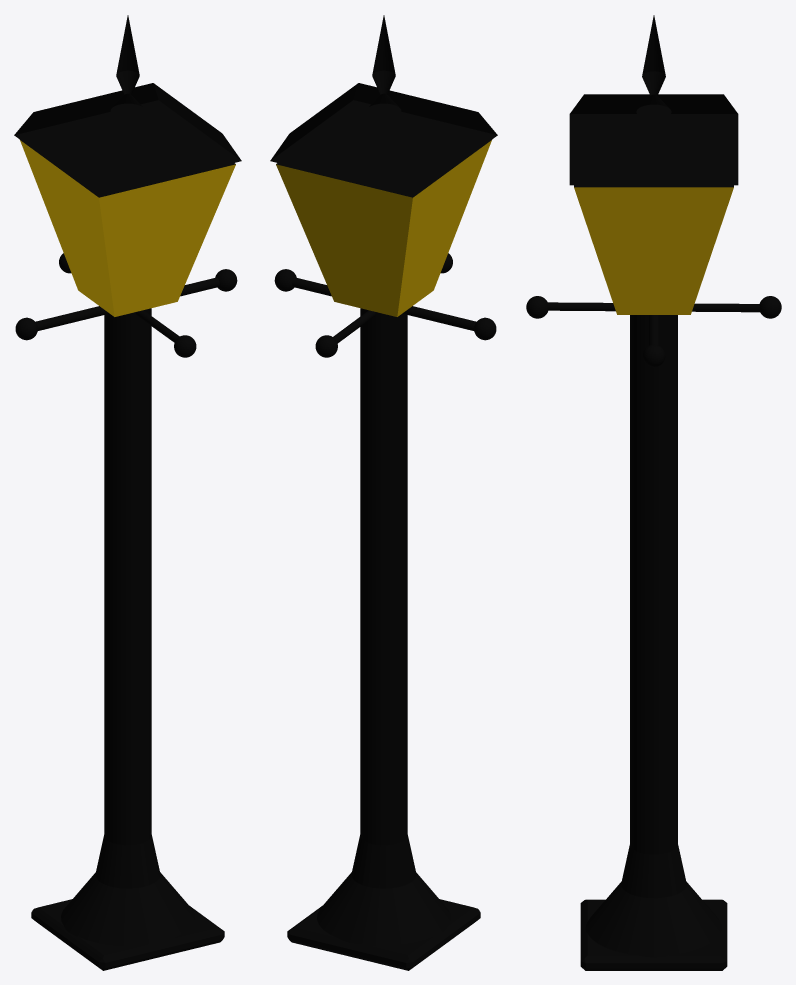
File: lamp.dae
3 renders of one model, left to right at view 1: azimuth 30°, elevation 25°; view 2: azimuth 150°, elevation 25°; view 3: azimuth 270°, elevation 25°, orthographic.
Parts seen in each view (by area): view 1: Cube, Cube.003; view 2: Cube, Cube.003; view 3: Cube, Cube.003.
Part boxes in pixels (x1=…): Cube: x1=15, y1=140, x2=237, y2=970; Cube.003: x1=14, y1=15, x2=241, y2=196; Cube: x1=274, y1=140, x2=496, y2=970; Cube.003: x1=270, y1=15, x2=497, y2=196; Cube: x1=526, y1=185, x2=781, y2=970; Cube.003: x1=569, y1=15, x2=738, y2=185.
Size of what is drawn, in the model's own units: 2.47 by 2.47 by 9.9.
